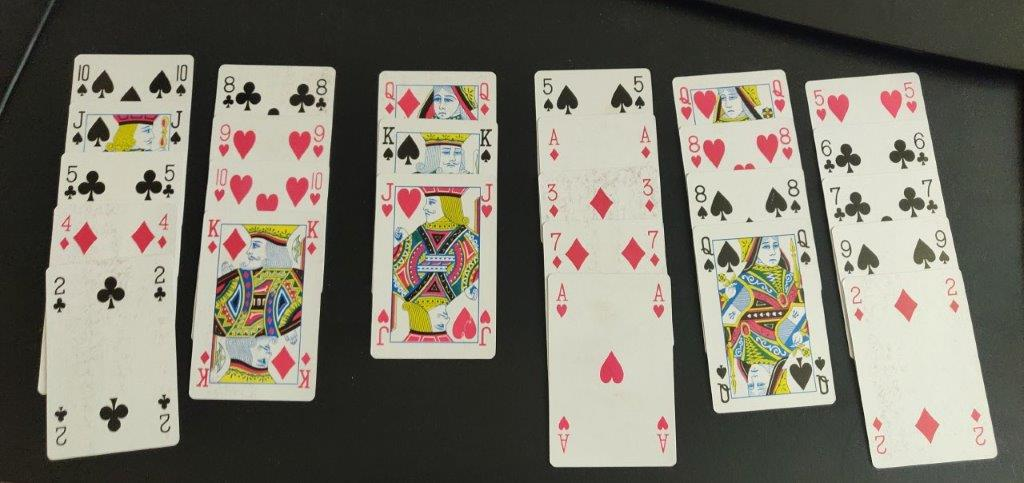10H: (208, 162, 231, 203), (308, 170, 325, 211)
10S: (70, 60, 92, 99), (171, 62, 192, 99)
2C: (51, 269, 71, 319), (150, 262, 169, 305)
2D: (847, 285, 871, 323), (943, 274, 965, 315)
3D: (638, 176, 657, 216), (545, 182, 563, 220)
4D: (54, 209, 76, 256), (156, 211, 173, 252)
5C: (160, 158, 178, 204), (62, 162, 80, 207)
5H: (810, 88, 829, 123), (902, 76, 918, 115)
5S: (631, 72, 649, 111), (539, 76, 556, 115)
6C: (815, 136, 840, 180), (912, 131, 929, 168)
7C: (823, 182, 847, 225), (921, 176, 940, 214)
7D: (545, 227, 566, 271), (644, 227, 662, 268)
8C: (220, 74, 237, 113), (314, 75, 328, 113)
8H: (687, 131, 704, 172), (778, 122, 794, 160)
8S: (690, 182, 711, 224), (785, 176, 805, 218)
9H: (215, 119, 233, 160), (312, 124, 325, 166)
9S: (833, 237, 857, 278), (933, 227, 955, 268)
AD: (543, 123, 563, 162), (636, 124, 653, 161)
AH: (551, 280, 573, 321), (649, 282, 669, 319)
JH: (477, 182, 496, 222), (378, 180, 396, 219)
JS: (68, 108, 88, 149), (168, 108, 185, 149)
KD: (204, 217, 223, 260), (303, 217, 321, 259)
KS: (380, 124, 398, 166), (478, 127, 495, 167)
QD: (380, 79, 400, 120), (476, 80, 492, 122)
QH: (675, 84, 693, 124), (769, 77, 787, 115)
QS: (794, 227, 818, 269), (696, 232, 716, 274)
